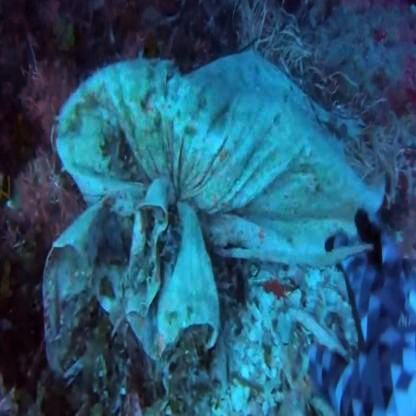plastic: (53, 70, 406, 336)
